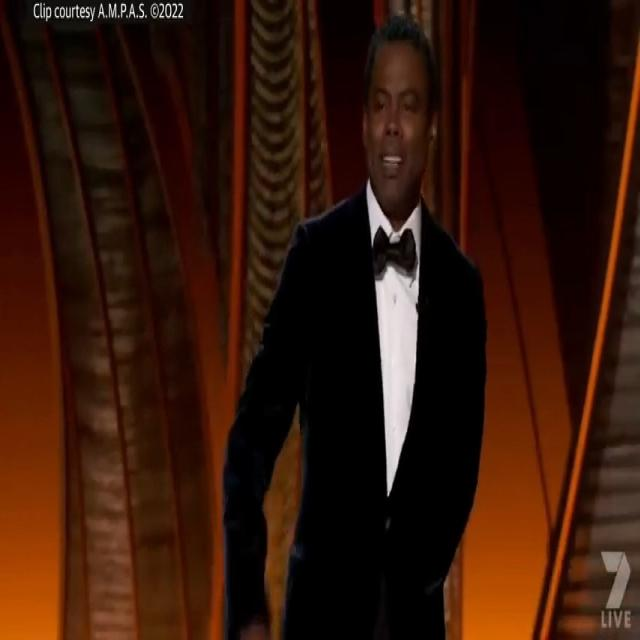non-fight: (216, 10, 490, 640)
